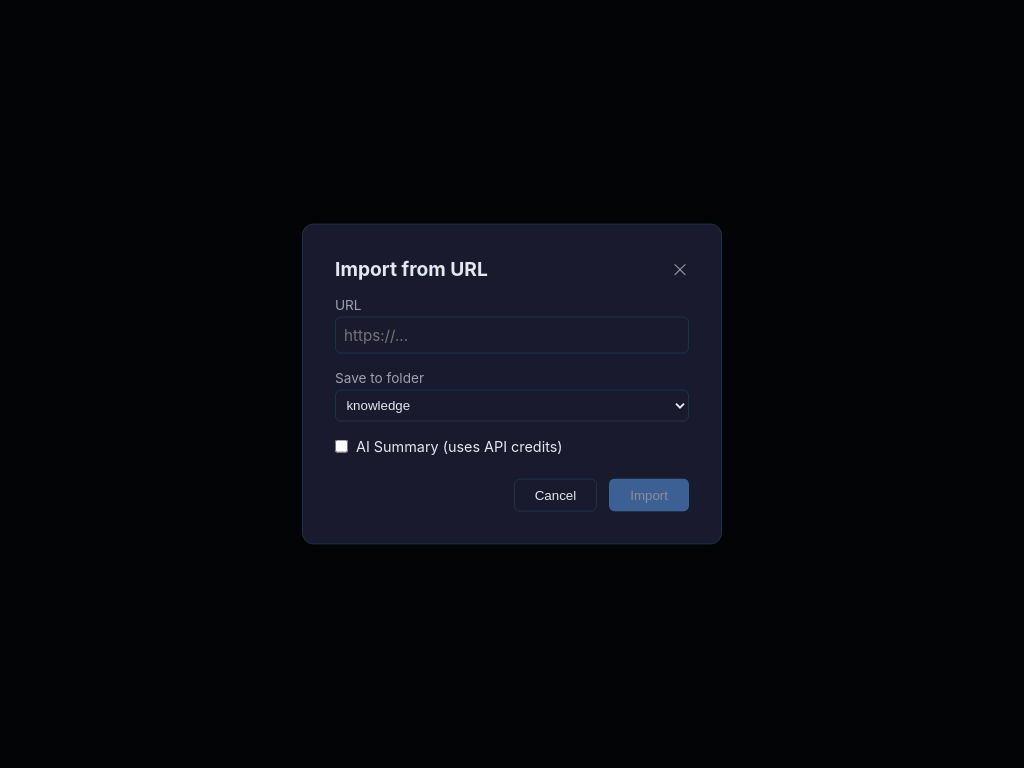
Test: components/LinkIngestDialog.vue › error state shows error message
The width and height of the screenshot is (1024, 768).
Type "https://example.com/article" into the field with class "link-dialog__input".
click(512, 335); type("https://example.com/article")  # box x1=335 y1=317 x2=689 y2=354
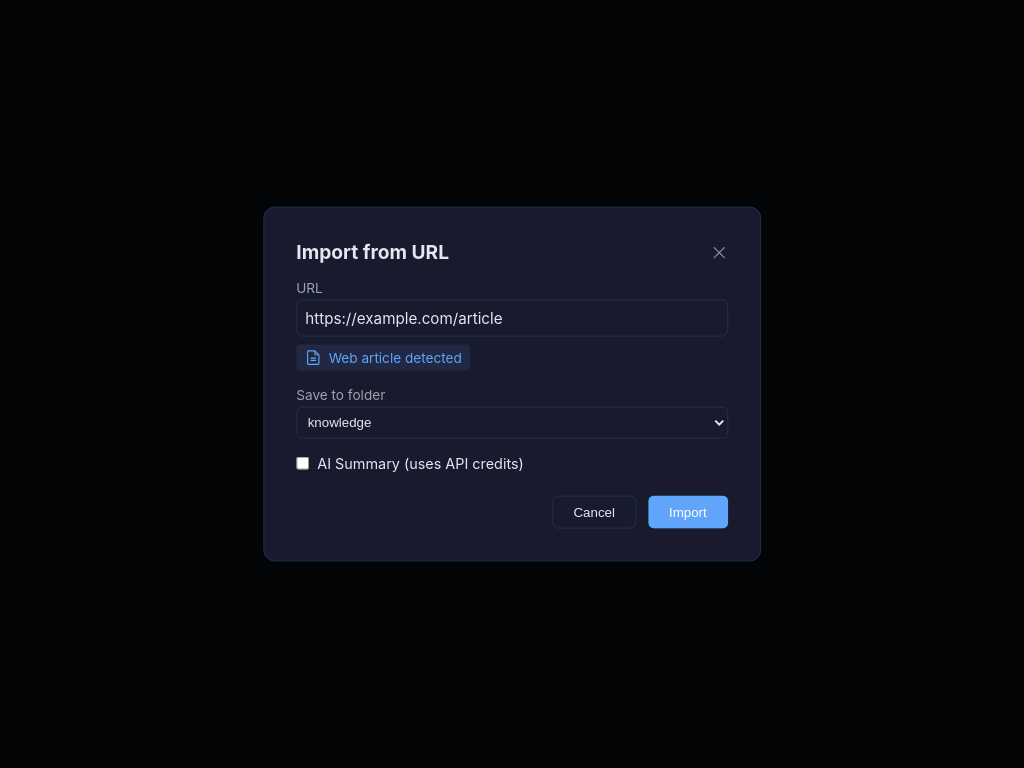
Click the button with class "link-dialog__import-btn".
click(688, 512)  # box x1=648 y1=495 x2=728 y2=528
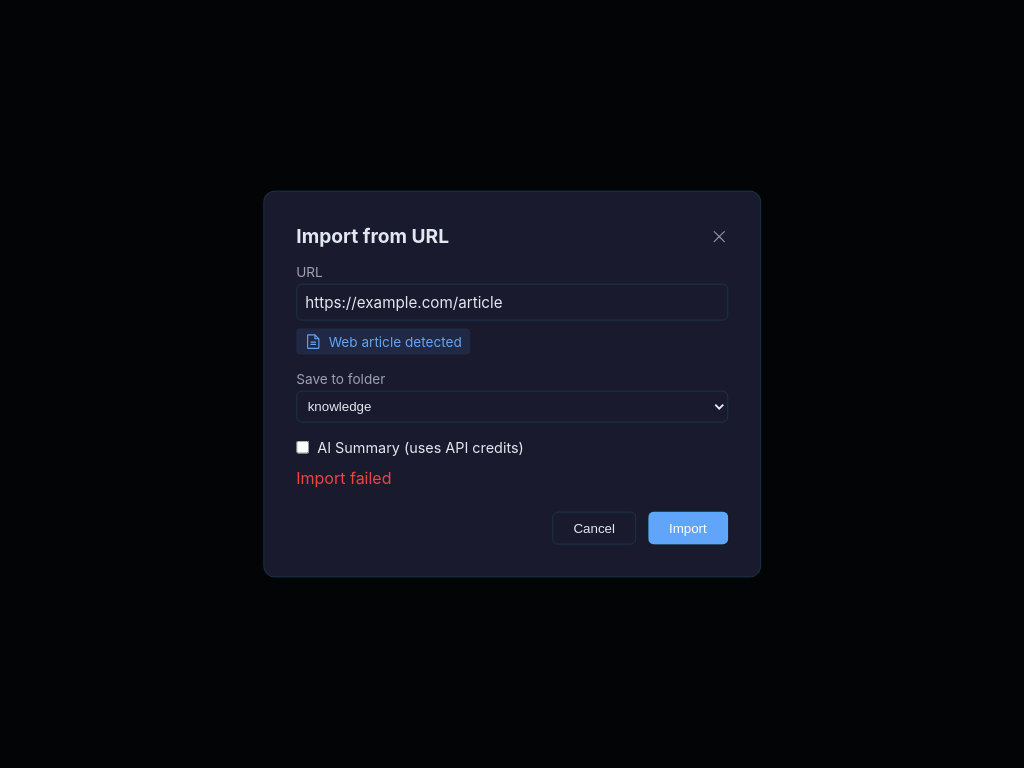
Now the text "Import failed" is shown, box x1=296 y1=467 x2=392 y2=487
